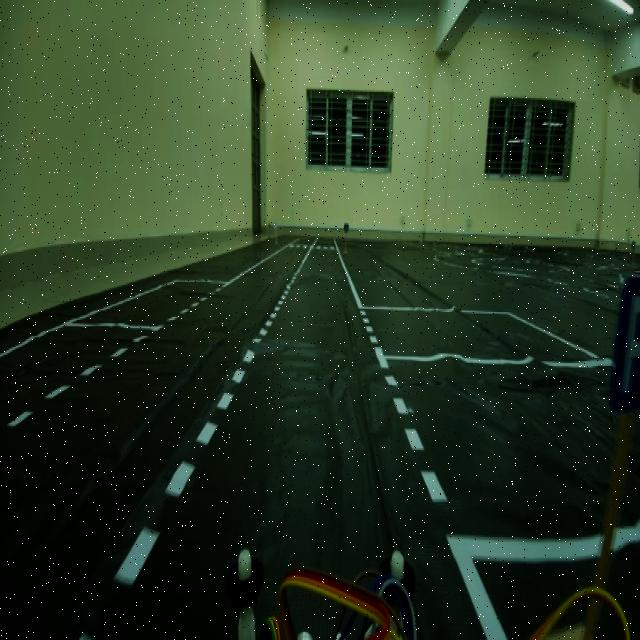parking: (602, 266, 640, 417)
